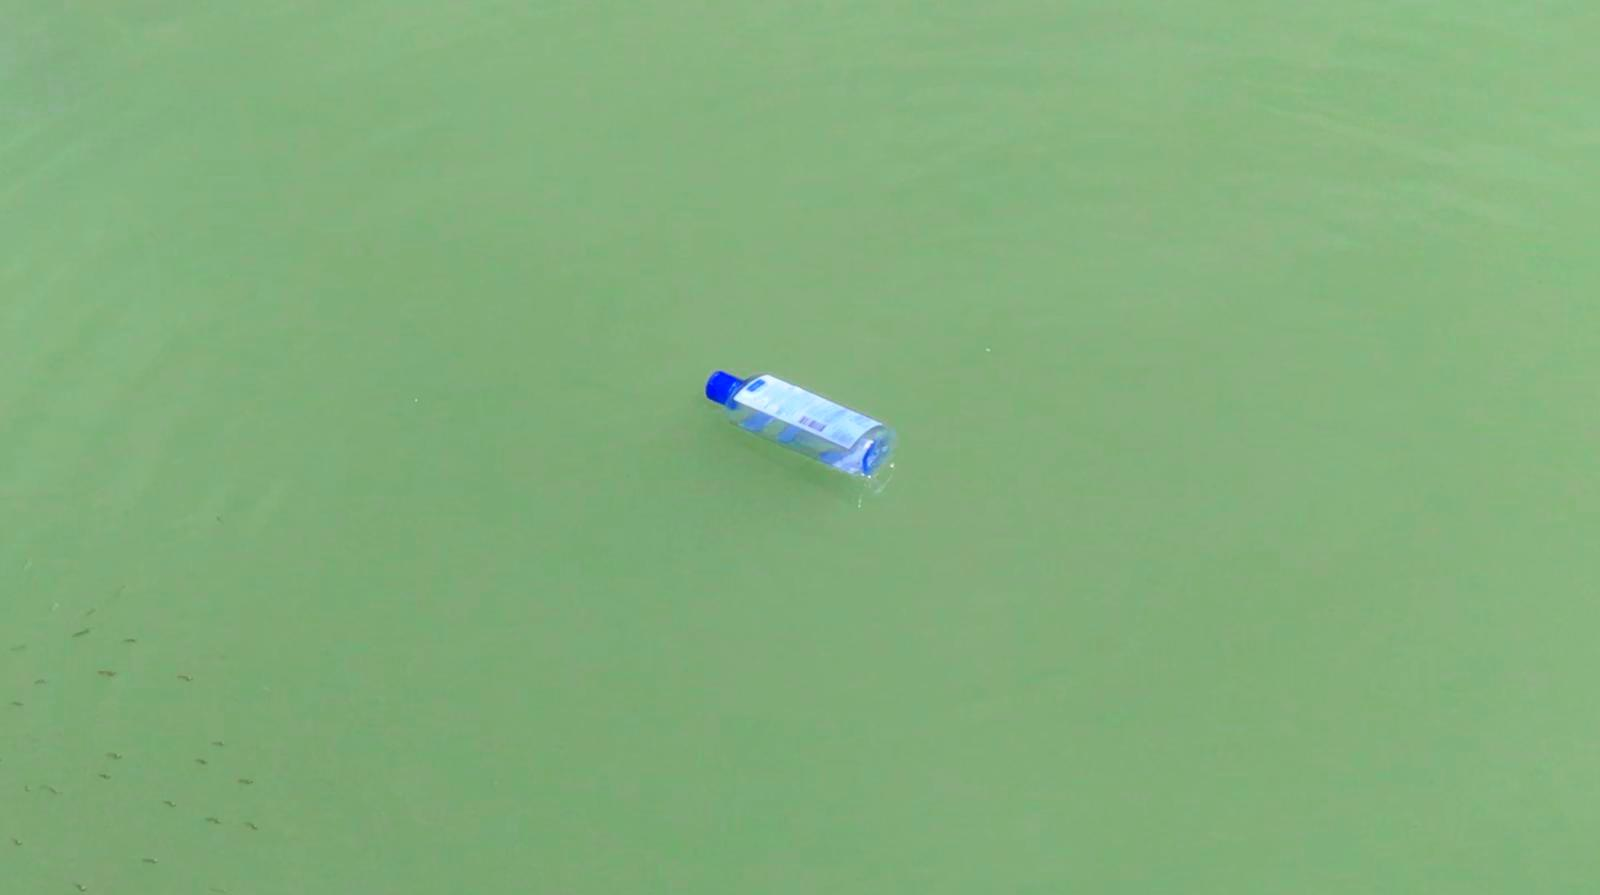Glass: (704, 361, 897, 480)
